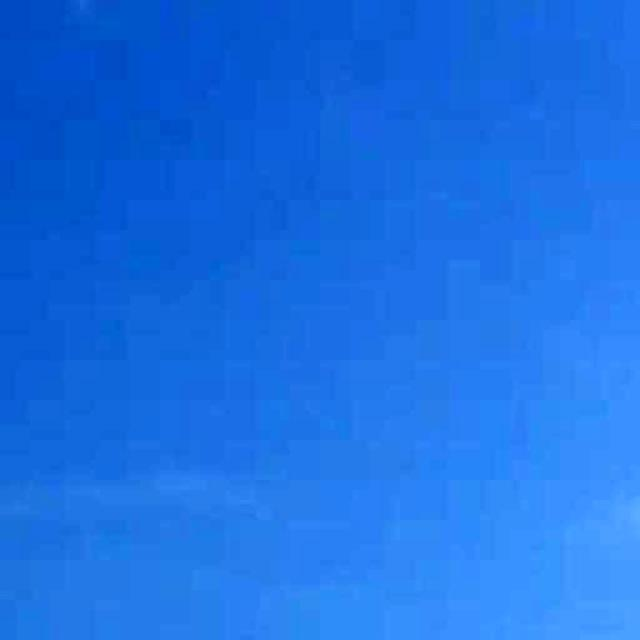drone: (220, 621, 268, 640)
